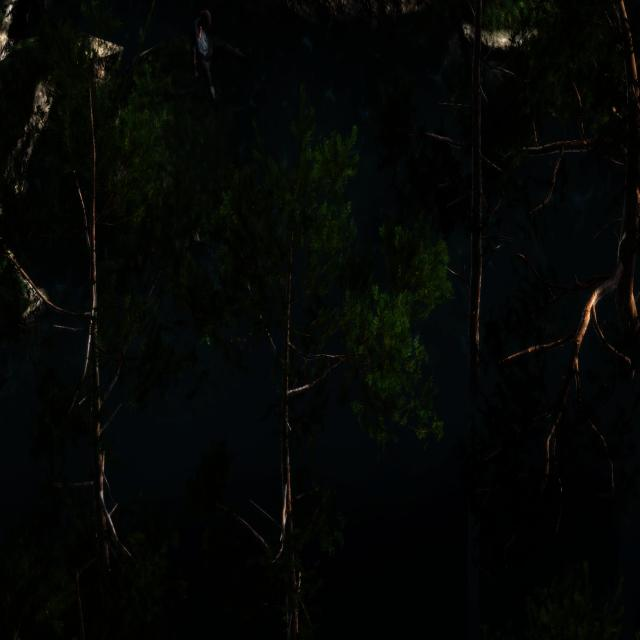Human: (186, 3, 254, 114)
